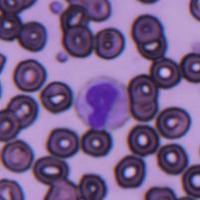N: (75, 75, 130, 131)
